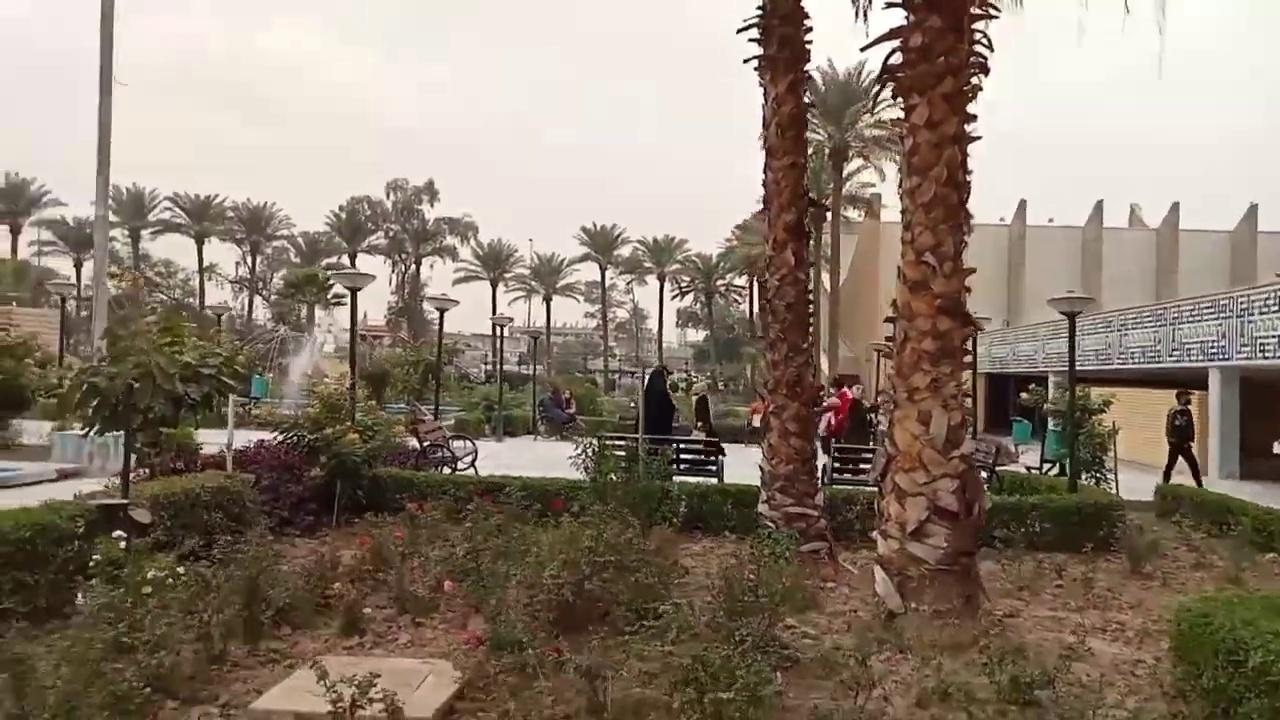fountain: (243, 326, 338, 413), (277, 331, 323, 401)
person: (1161, 389, 1202, 488), (642, 364, 677, 457), (542, 385, 576, 426)
tree: (733, 0, 1167, 617), (856, 0, 1002, 616), (734, 0, 838, 568), (66, 283, 246, 498), (801, 56, 905, 391), (359, 175, 477, 345), (321, 200, 383, 422), (567, 220, 632, 393), (450, 236, 524, 378), (669, 251, 746, 386), (152, 189, 233, 310), (220, 197, 294, 327), (510, 248, 583, 378), (717, 213, 768, 388), (273, 263, 346, 385), (630, 232, 691, 366), (281, 229, 340, 336), (106, 180, 164, 275), (0, 169, 52, 260), (615, 249, 651, 363), (49, 213, 95, 299), (673, 304, 701, 348)
